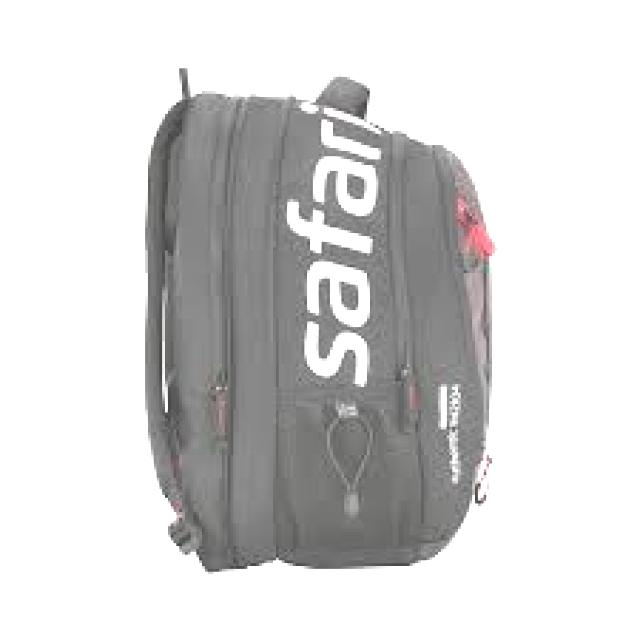backpack: (144, 64, 496, 573)
